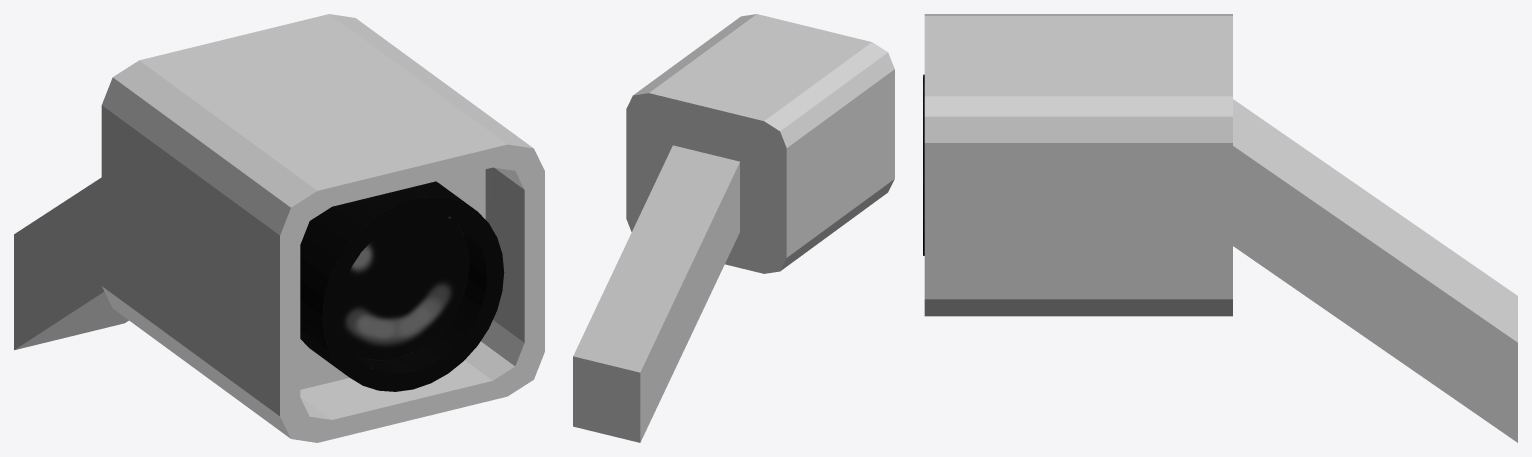
File: cctv.fbx
3 views of the same model, side by side, from view 1: azimuth 30°, elevation 25°; view 2: azimuth 150°, elevation 25°; view 3: azimuth 270°, elevation 25° (orthographic). The views are drawn at different scales.
Visible parts, largest first — view 1: CCTV; view 2: CCTV; view 3: CCTV.
Part boxes in pixels (left/top/right/bottom): CCTV: left=14, top=14, right=544, bottom=442; CCTV: left=573, top=14, right=894, bottom=442; CCTV: left=923, top=14, right=1517, bottom=442.
Size of the model in its own units: 61.93 by 93.88 by 139.
